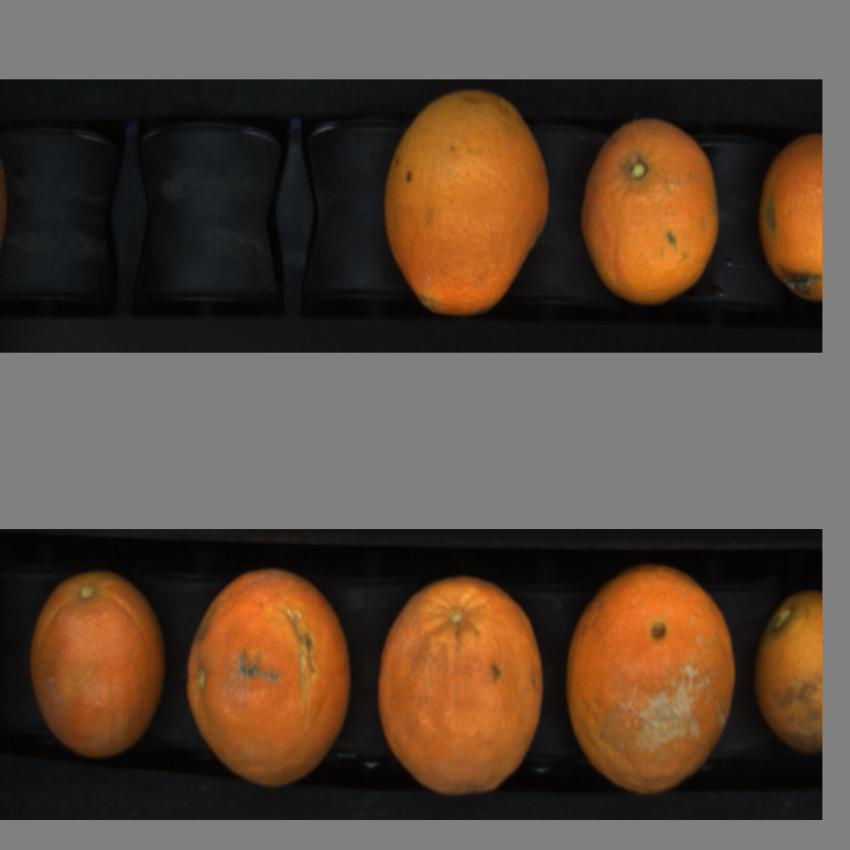Buen estado: (382, 84, 559, 322), (574, 111, 720, 311), (26, 573, 168, 761), (752, 113, 820, 310)
Mal estado: (562, 558, 745, 804), (180, 563, 359, 791), (378, 564, 548, 804), (754, 576, 823, 758)
